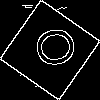O: (25, 25, 77, 72)
